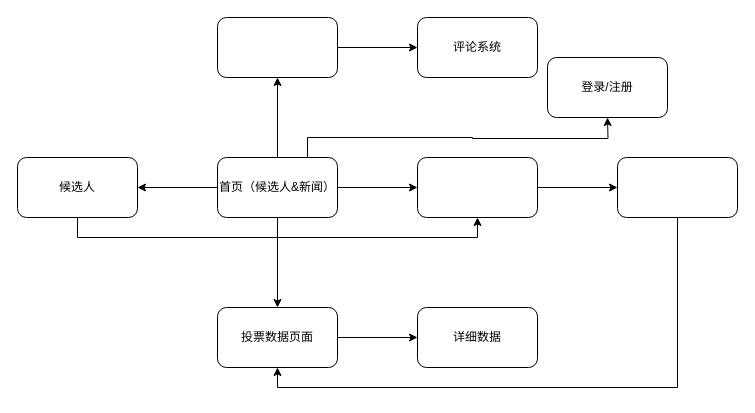
The diagram is 755 pixels wide and 413 high, and some of its shapes have lost their labels. Here are the shapes that lost their labels. From the top down, the centre of each, then its label:
the point at 277,47: 新闻详情
the point at 477,187: 投票
the point at 677,187: 投票成功
